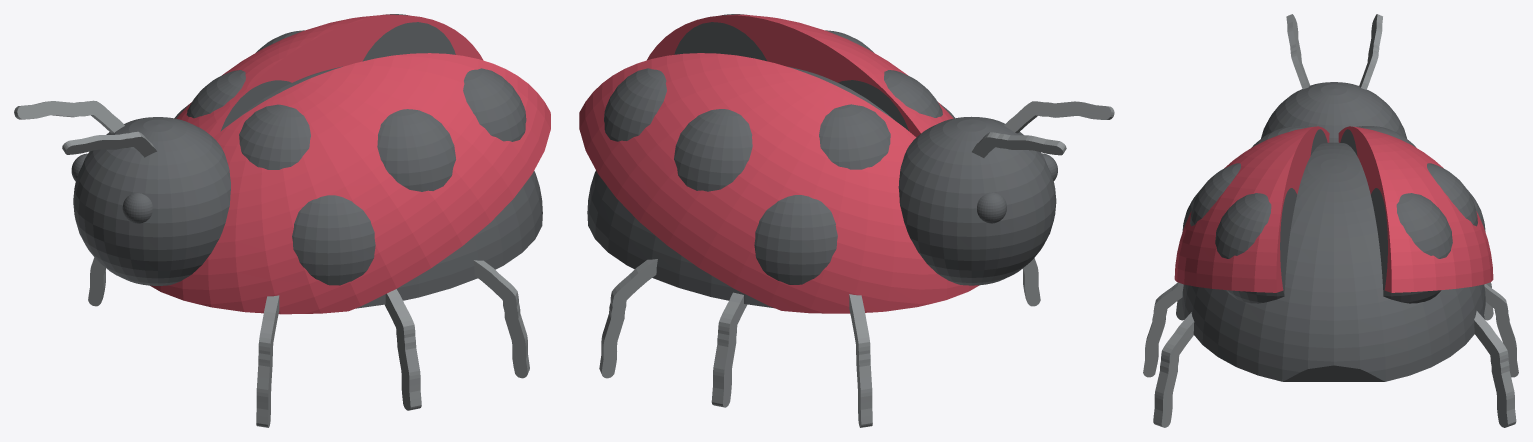
The model's file is LadyB.glb.
The picture shows the model from 3 angles, left to right: view 1: azimuth 30°, elevation 25°; view 2: azimuth 150°, elevation 25°; view 3: azimuth 270°, elevation 25°; orthographic projection. The views are drawn at different scales.
Parts seen in each view (by area): view 1: Mesh_Mesh_head_geo.001_lambert2SG.001; view 2: Mesh_Mesh_head_geo.001_lambert2SG.001; view 3: Mesh_Mesh_head_geo.001_lambert2SG.001.
Part boxes in pixels (x1=…): Mesh_Mesh_head_geo.001_lambert2SG.001: x1=14, y1=14, x2=550, y2=427; Mesh_Mesh_head_geo.001_lambert2SG.001: x1=579, y1=14, x2=1114, y2=427; Mesh_Mesh_head_geo.001_lambert2SG.001: x1=1143, y1=14, x2=1518, y2=427.
Size of the model in its own units: 0.0328 by 0.0181 by 0.0248.
